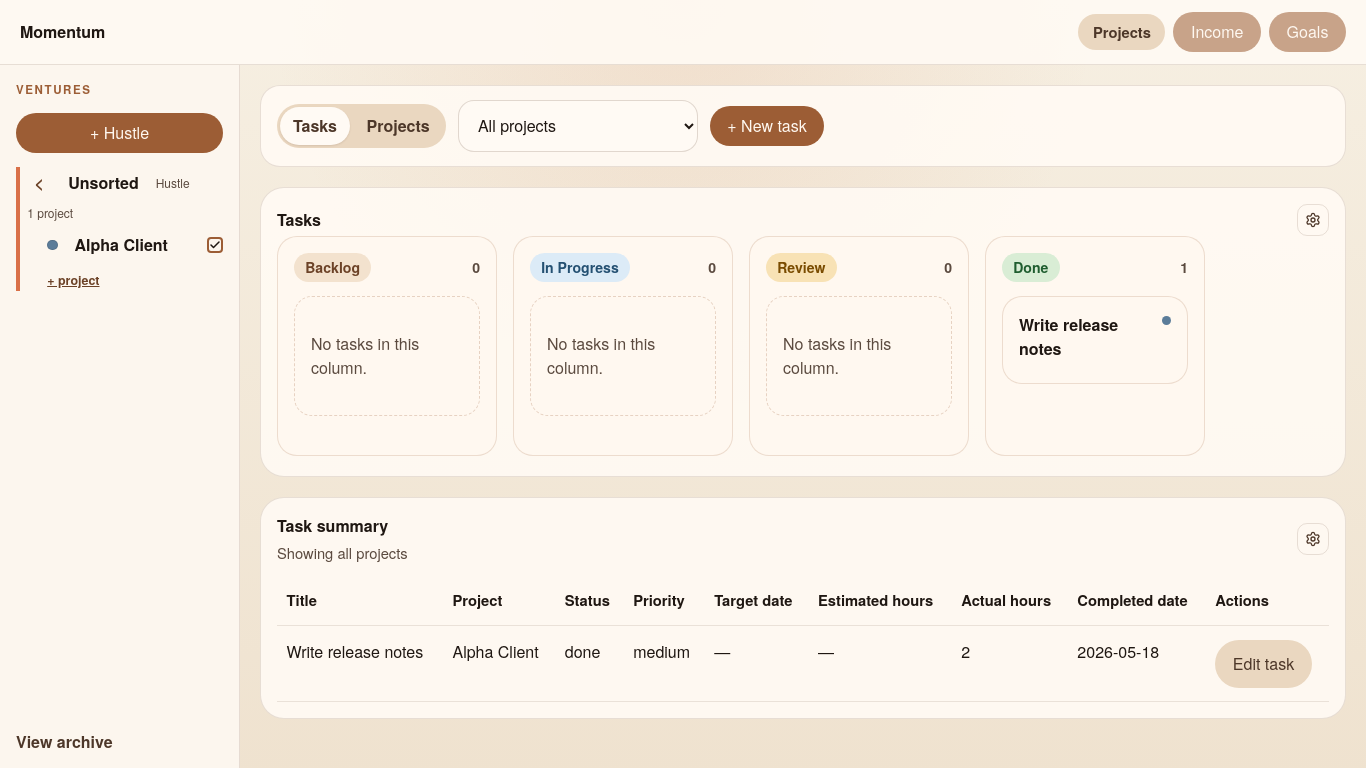
Test: Task modal: time logs, chrome, and archive affordance › time logs section layout › titles the section Time logs and shows actual hours and completed date above the entry list
Step 1. Click the button "Edit task" → coordinates (1264, 664), box [1215,640,1312,688]
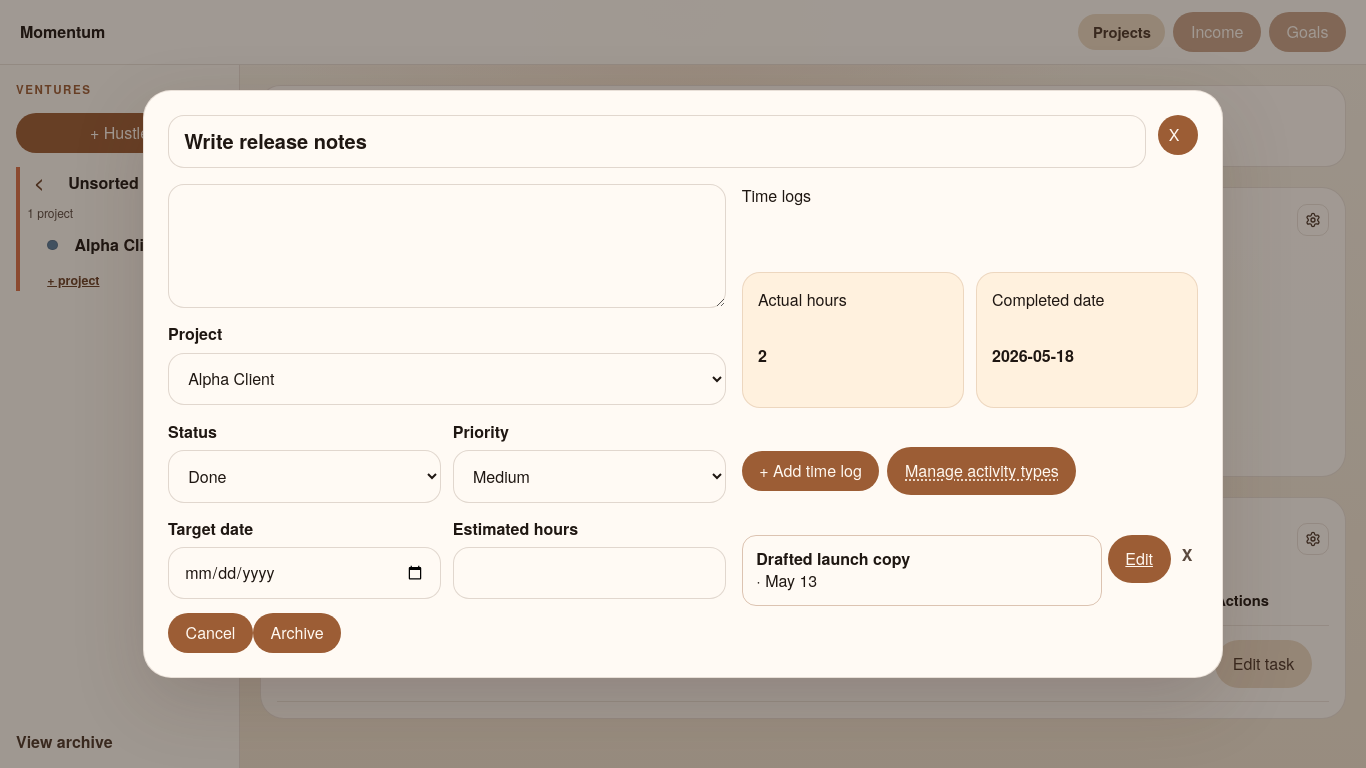
expect the heading "Time logs" is shown: met, box [742,184,811,207]
expect the text "Actual hours" is shown: met, box [758,288,847,311]
expect the text "2" is shown: met, box [758,344,767,367]
